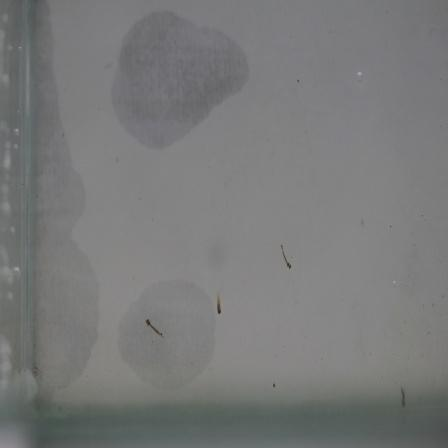Jentik-Nyamuk: (140, 314, 171, 341), (276, 240, 295, 273), (210, 289, 229, 318)
